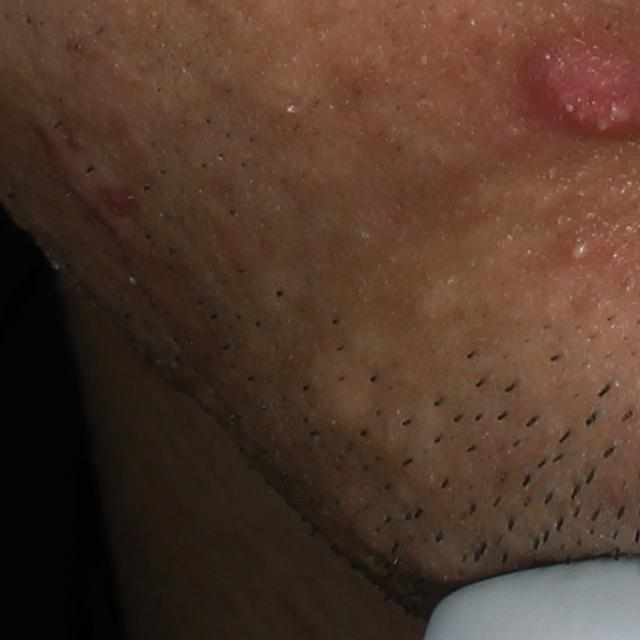hypertrophic_scar: (38, 113, 151, 203), (307, 329, 393, 442), (416, 271, 472, 321)
pustule: (557, 225, 606, 269)
